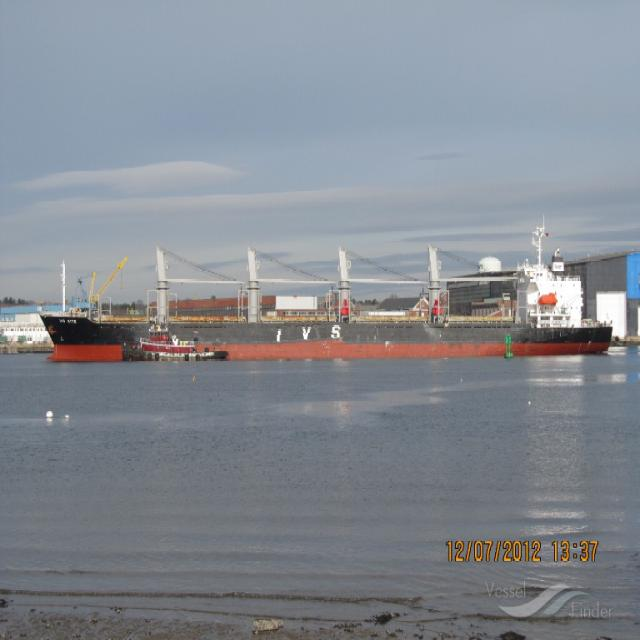OCR: (276, 322, 346, 350)
